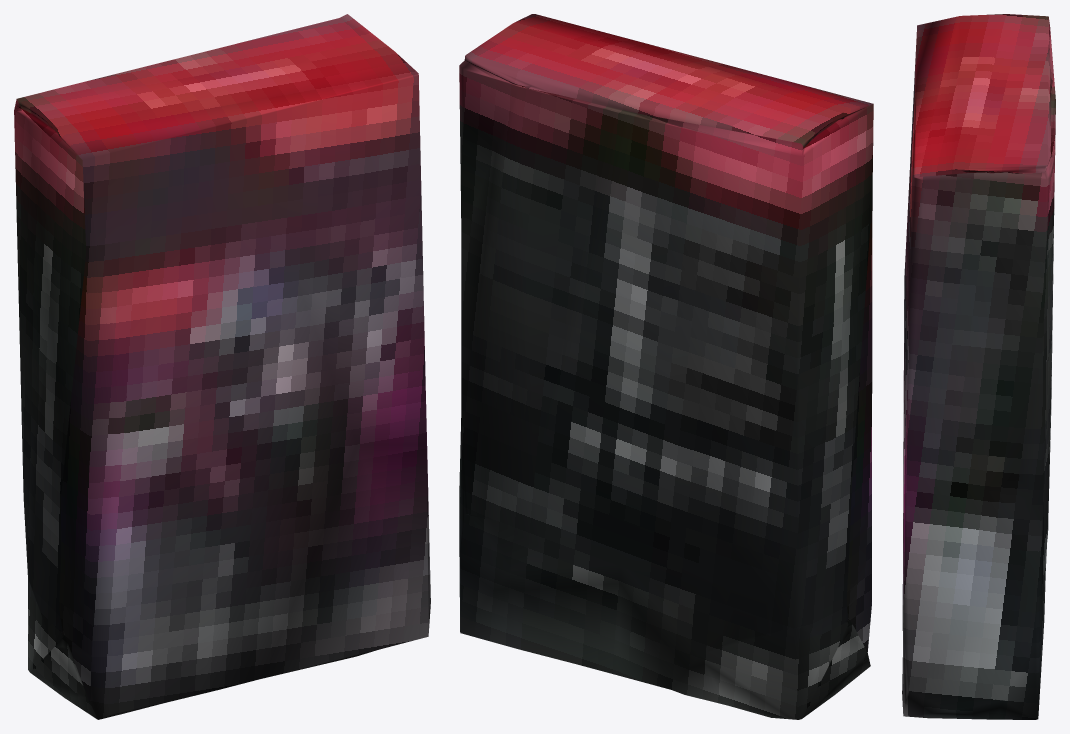
Rendered from SAPPHIRE_R7_260X_OC-low.glb.
3 views of the same model, side by side, from view 1: azimuth 30°, elevation 25°; view 2: azimuth 150°, elevation 25°; view 3: azimuth 270°, elevation 25° (orthographic). The views are drawn at different scales.
Visible parts, largest first — view 1: SAPPHIRE_R7_260X_OC; view 2: SAPPHIRE_R7_260X_OC; view 3: SAPPHIRE_R7_260X_OC.
Boxes of the visible parts, left/top/right/bottom form: SAPPHIRE_R7_260X_OC: left=14, top=14, right=430, bottom=719; SAPPHIRE_R7_260X_OC: left=459, top=14, right=873, bottom=719; SAPPHIRE_R7_260X_OC: left=902, top=14, right=1055, bottom=719.
Bounding box in the file's own units: 0.17 × 0.2723 × 0.068.
1 material, 1 textured.
